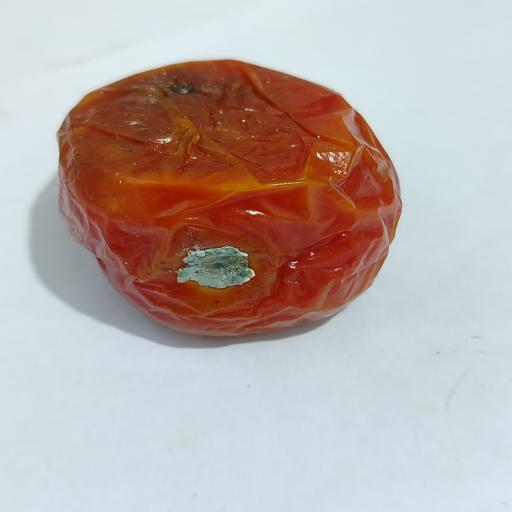spoiled: (60, 61, 400, 334)
